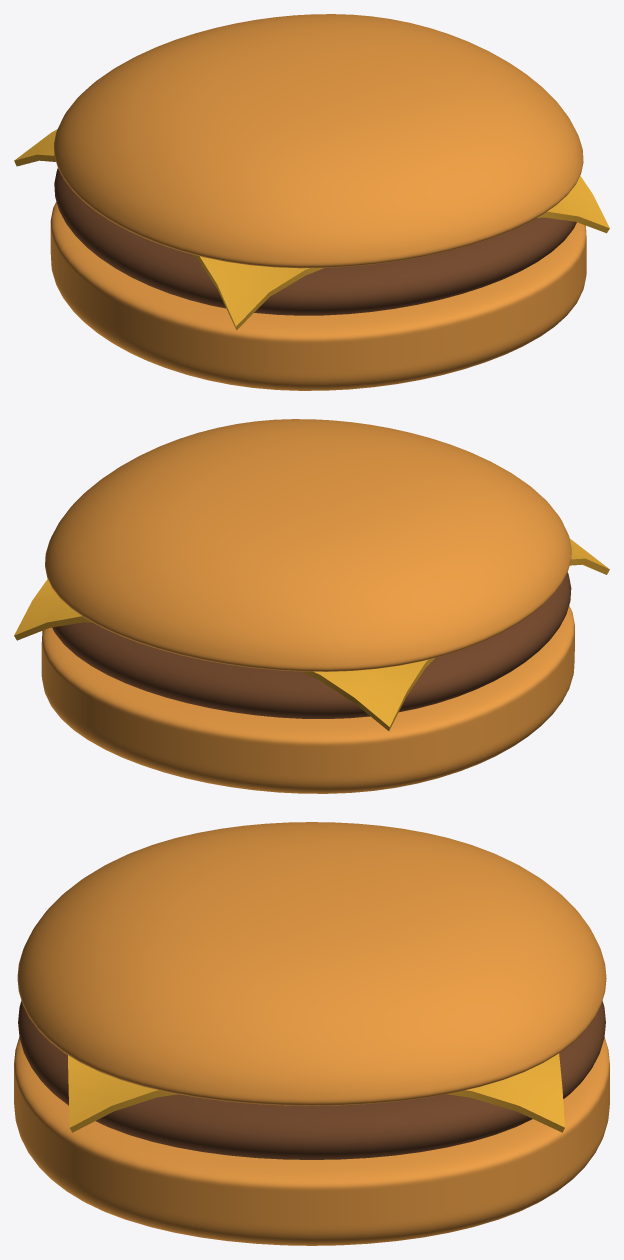
Rendered from hamburger.glb.
3 renders of one model, top to bottom at view 1: azimuth 30°, elevation 25°; view 2: azimuth 150°, elevation 25°; view 3: azimuth 270°, elevation 25°, orthographic. The views are drawn at different scales.
Parts seen in each view (by area): view 1: Bun top, bun bottom, burger, cheese; view 2: Bun top, bun bottom, burger, cheese; view 3: Bun top, bun bottom, burger, cheese.
Part boxes in pixels (x1,y1,x2,y2): Bun top: [54, 14, 583, 268]; bun bottom: [50, 202, 586, 390]; burger: [54, 168, 576, 315]; cheese: [14, 129, 609, 330]; Bun top: [45, 419, 571, 671]; bun bottom: [41, 606, 574, 793]; burger: [52, 572, 571, 718]; cheese: [14, 539, 609, 730]; Bun top: [17, 822, 606, 1105]; bun bottom: [14, 1037, 609, 1245]; burger: [18, 1000, 605, 1159]; cheese: [68, 1053, 564, 1132].
Bounding box in the file's own units: 10.98 × 5.41 × 10.98.
